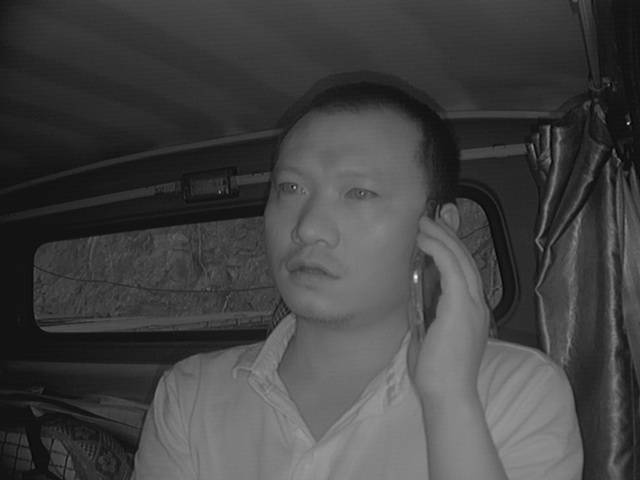hand: (400, 210, 500, 380)
